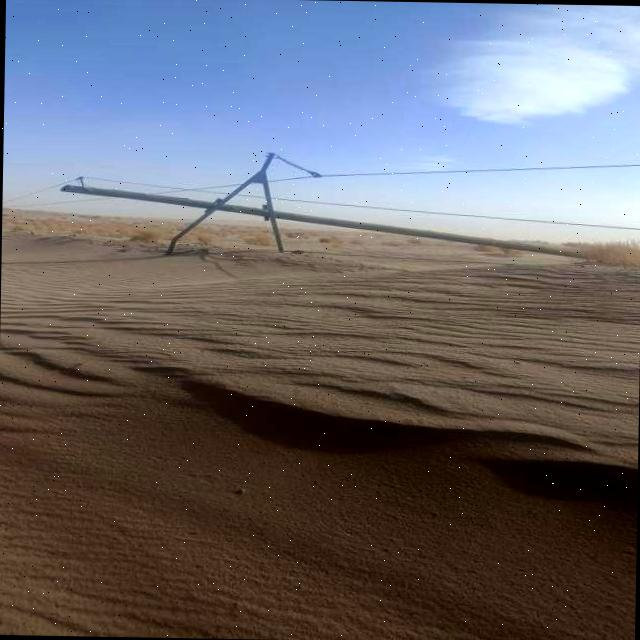Broken Pole: (60, 151, 593, 258)
